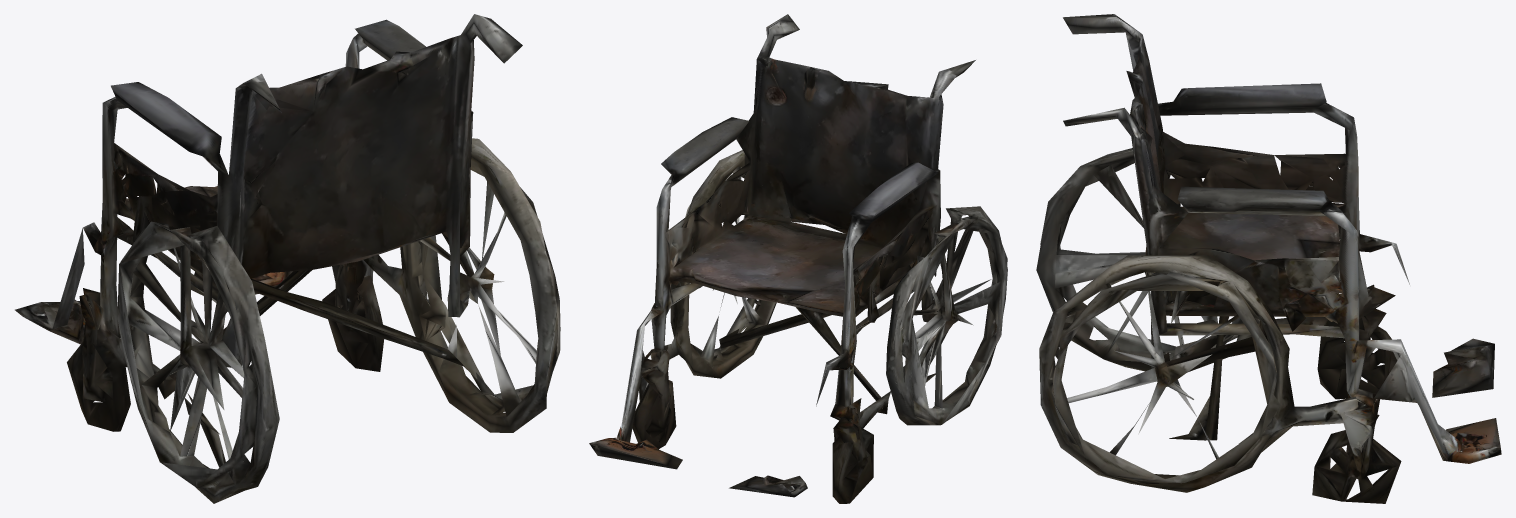
Rendered from sn_wheelchair.glb.
The picture shows the model from 3 angles, left to right: view 1: azimuth 30°, elevation 25°; view 2: azimuth 150°, elevation 25°; view 3: azimuth 270°, elevation 25°; orthographic projection. The views are drawn at different scales.
Visible parts, largest first — view 1: tripo_node_835d26ca-7add-44dd-b26f-b31ff1dab21a; view 2: tripo_node_835d26ca-7add-44dd-b26f-b31ff1dab21a; view 3: tripo_node_835d26ca-7add-44dd-b26f-b31ff1dab21a.
Boxes of the visible parts, left/top/right/bottom form: tripo_node_835d26ca-7add-44dd-b26f-b31ff1dab21a: left=15, top=14, right=560, bottom=503; tripo_node_835d26ca-7add-44dd-b26f-b31ff1dab21a: left=589, top=14, right=1007, bottom=503; tripo_node_835d26ca-7add-44dd-b26f-b31ff1dab21a: left=1036, top=14, right=1501, bottom=503.
Size of the model in its own units: 0.6824 by 0.9313 by 1.
Materials: 1 (1 with a texture image).
